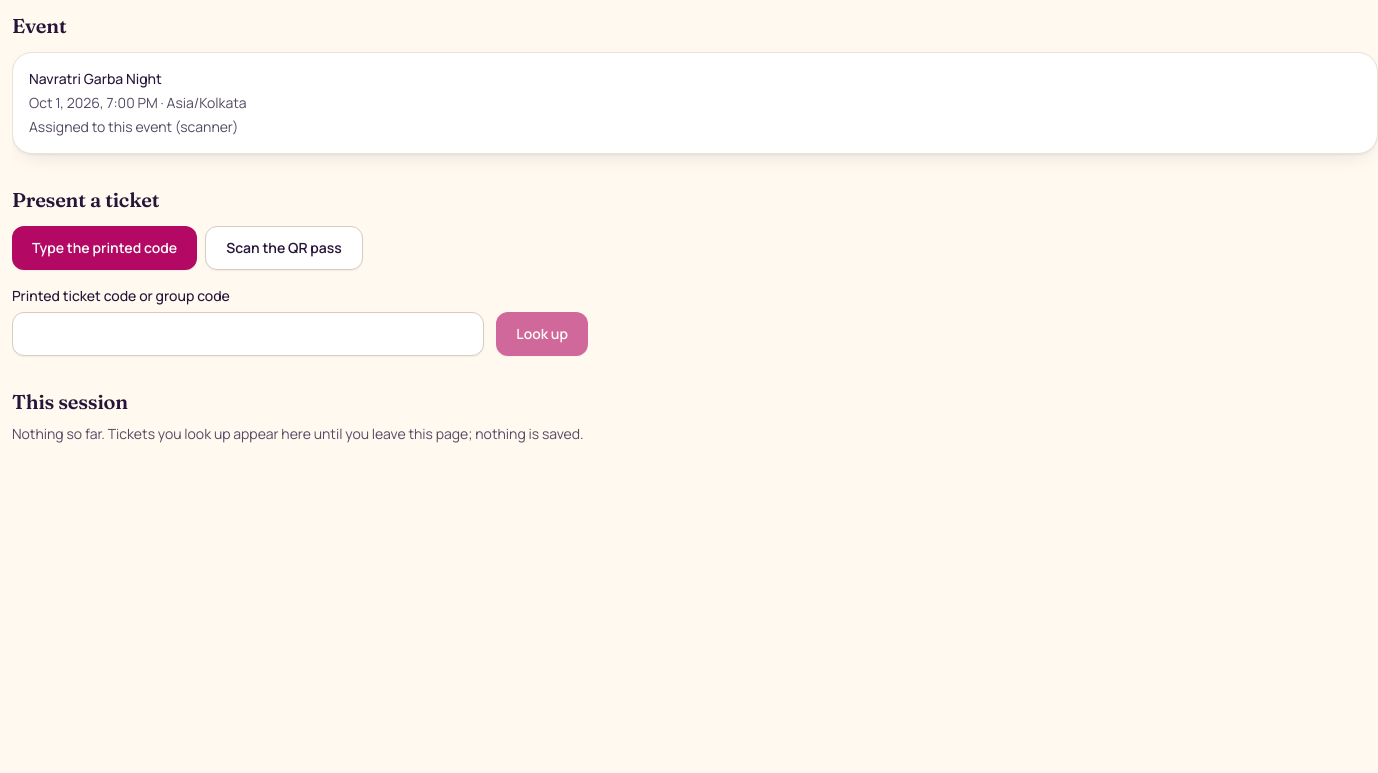
Test: DoorWorkspace: looking up, then admitting › reports an unanswered admission as uncertain, and retries the identical request
The width and height of the screenshot is (1378, 773).
Type "det-abc123xyz" into the field labelled "Printed ticket code or group code" at (248, 334), box [12,312,484,356]
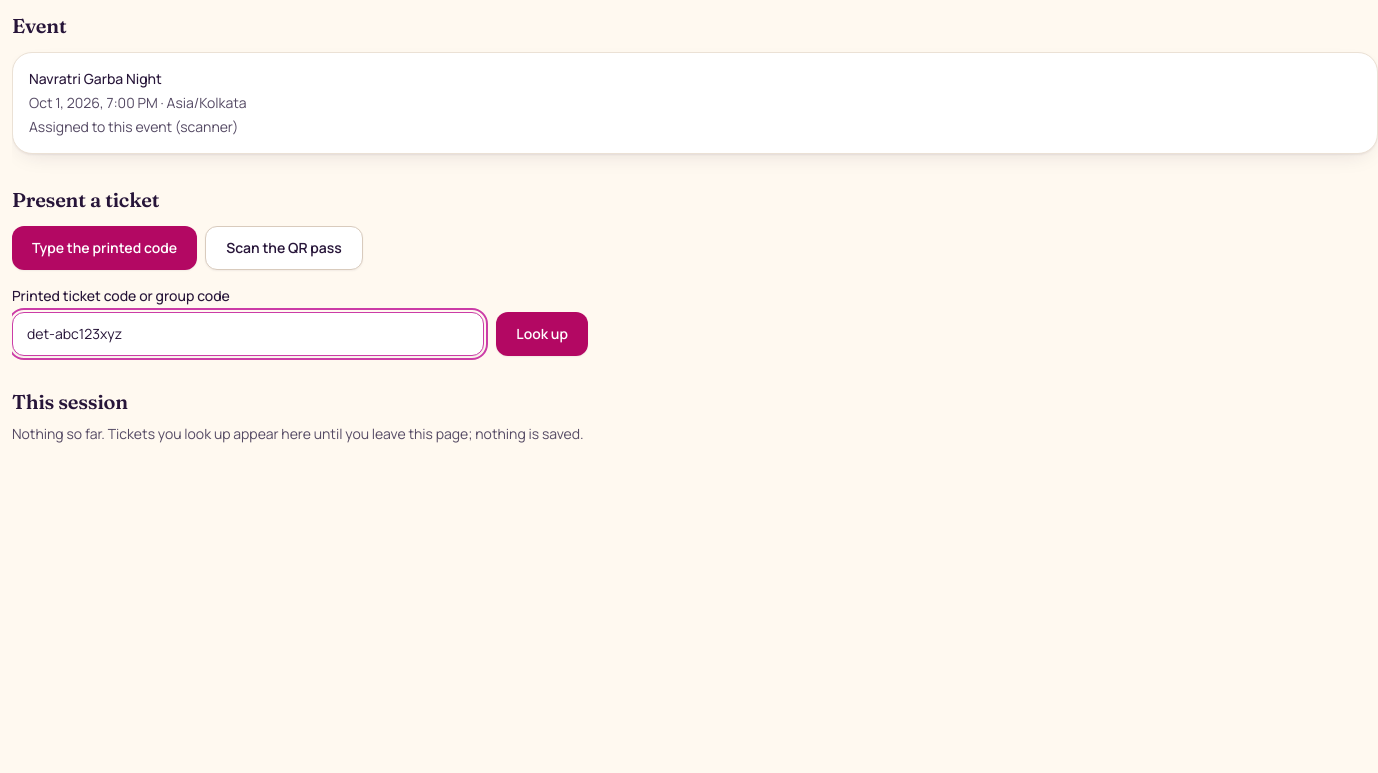
Click the button "Look up" at (542, 334), box [496,312,588,356]
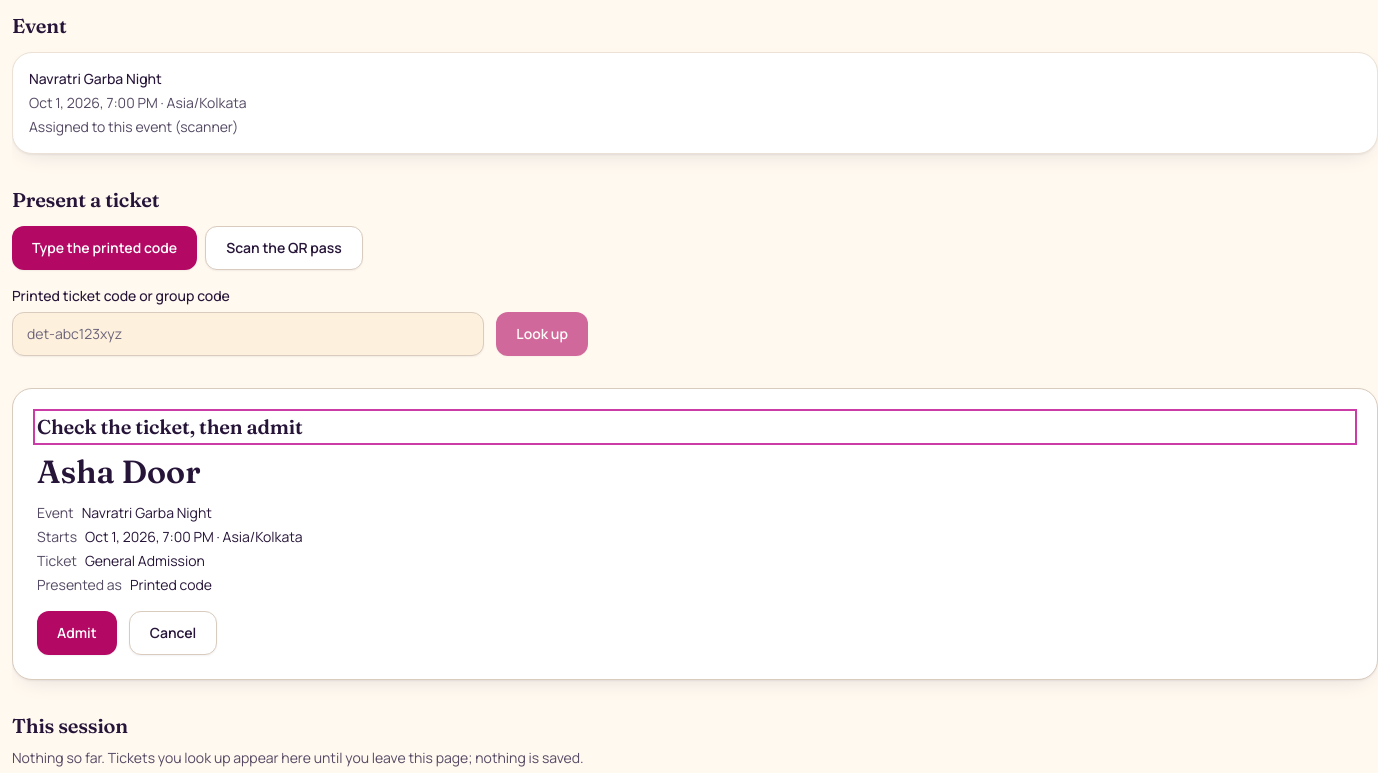
Click the button "Admit" at (77, 633), box [37,611,117,655]
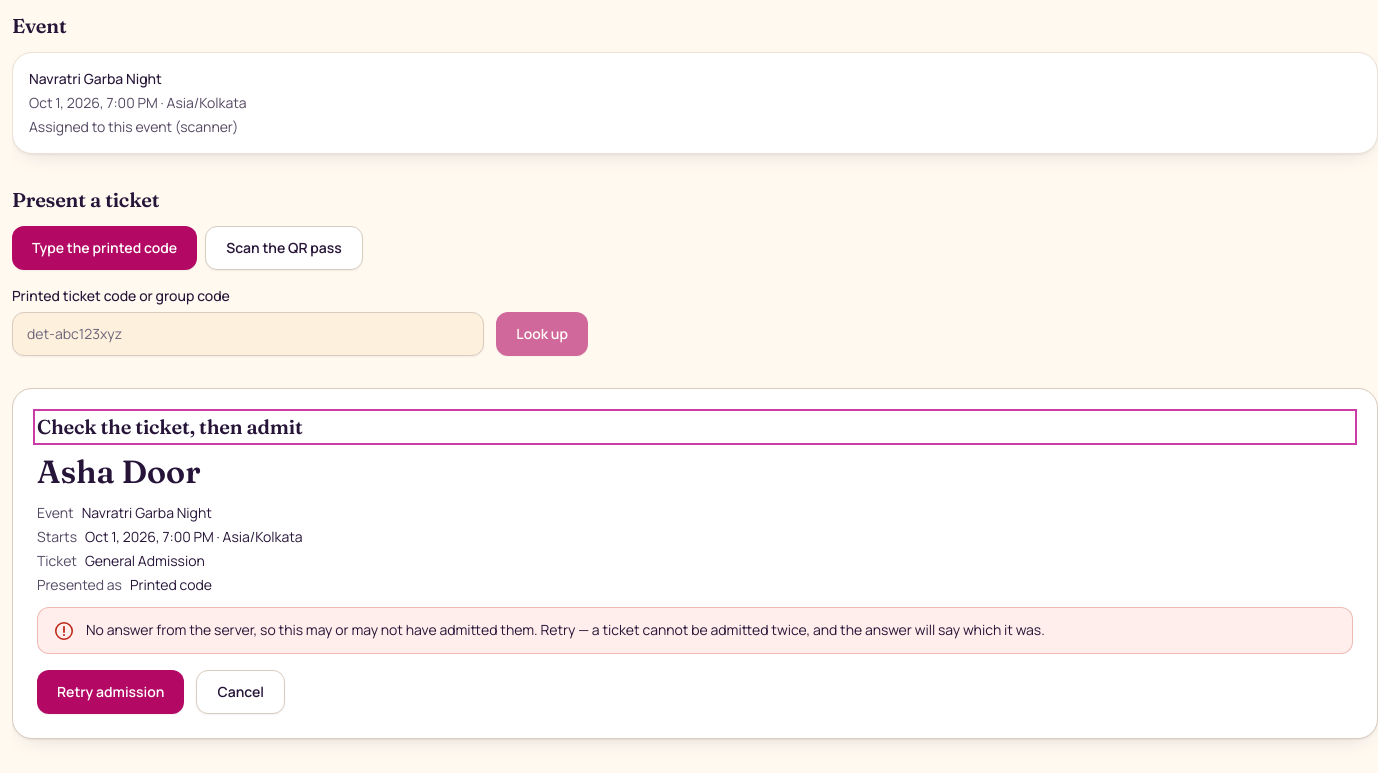
Expected: the message shows "may or may not", [86,620,1045,639]
Click the button "Retry admission" at (111, 692), box [37,670,184,714]
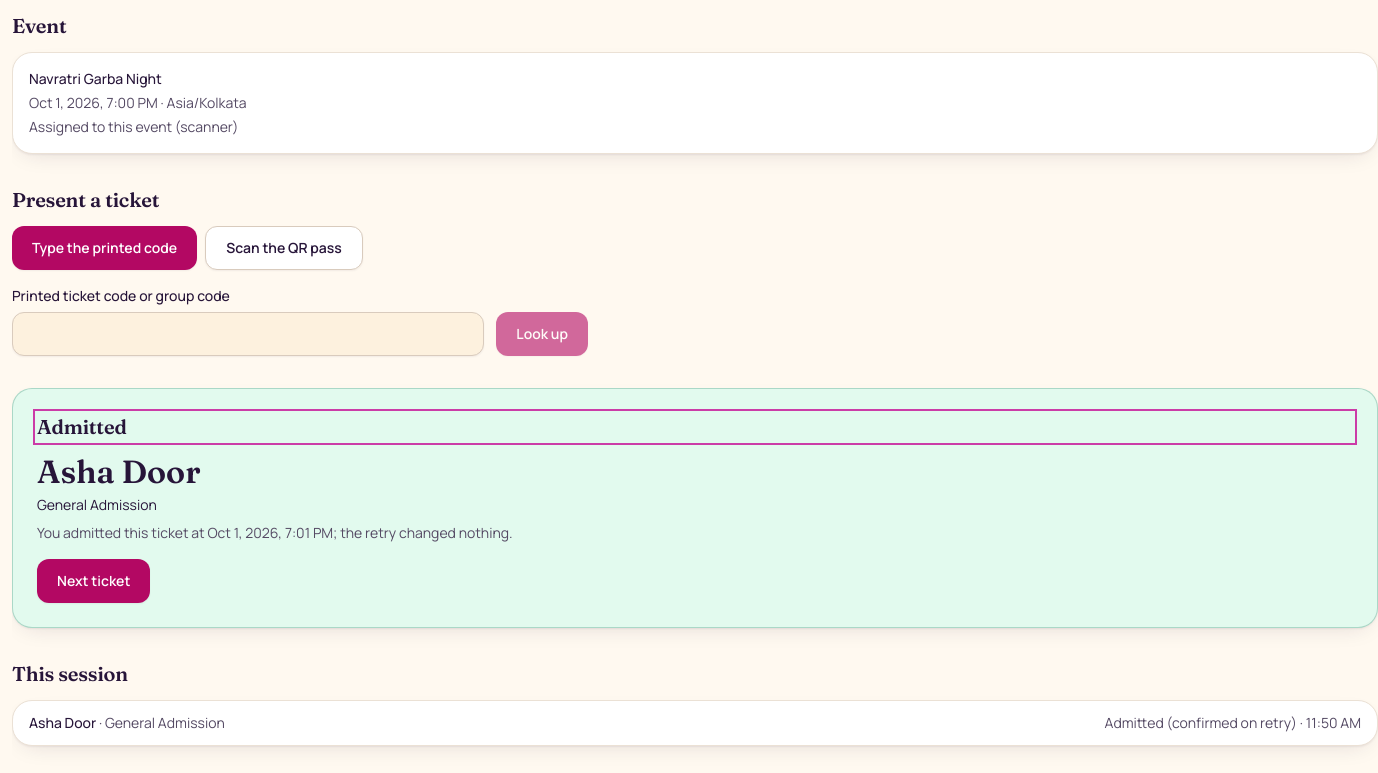
Expected: the heading "Admitted" is shown, [37,414,127,439]
Expected: the text "the retry changed nothing" is shown, [37,523,513,542]
